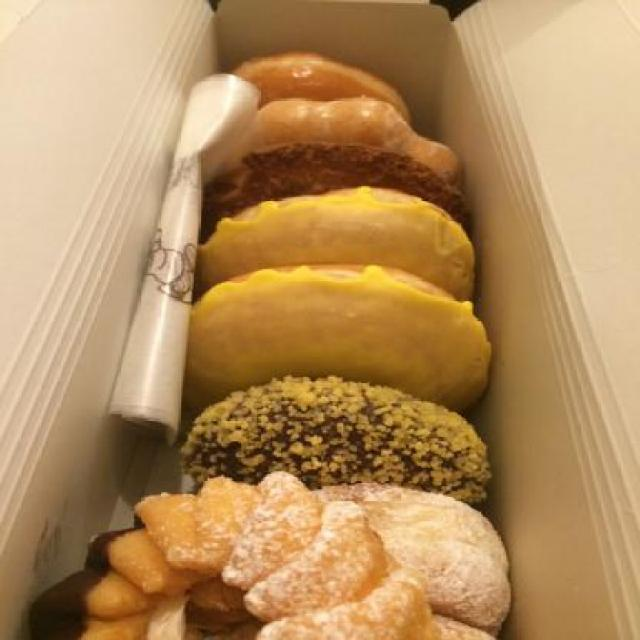Bread: (24, 53, 508, 639), (192, 263, 498, 391)
